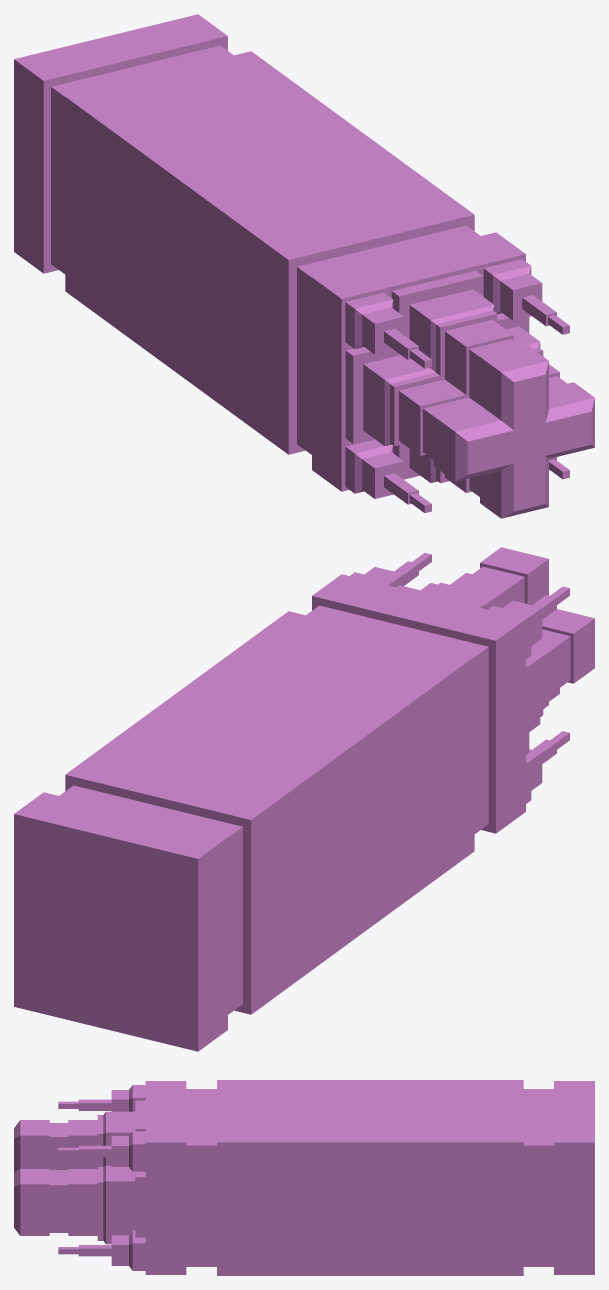
The model's file is building_02.glb.
3 views of the same model, one above another, from view 1: azimuth 30°, elevation 25°; view 2: azimuth 150°, elevation 25°; view 3: azimuth 270°, elevation 25° (orthographic). The views are drawn at different scales.
Visible parts, largest first — view 1: Node1; view 2: Node1; view 3: Node1.
Boxes of the visible parts, x1,y1,x2,y2 form: Node1: [14, 14, 594, 518]; Node1: [14, 547, 594, 1051]; Node1: [14, 1080, 594, 1275].
Bounding box in the file's own units: 1.55 × 1.55 × 6.12.
